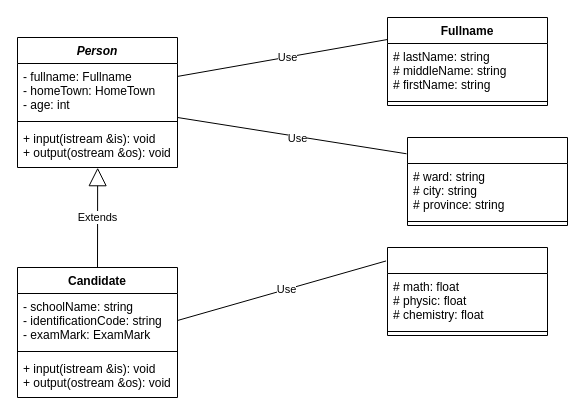
This 585x418 diagram has some shape labels left out. Here are the shapes that lost their labels. From the top down, the box of each, then its label:
(406, 136, 568, 226): HomeTown
(386, 246, 548, 336): ExamMark
